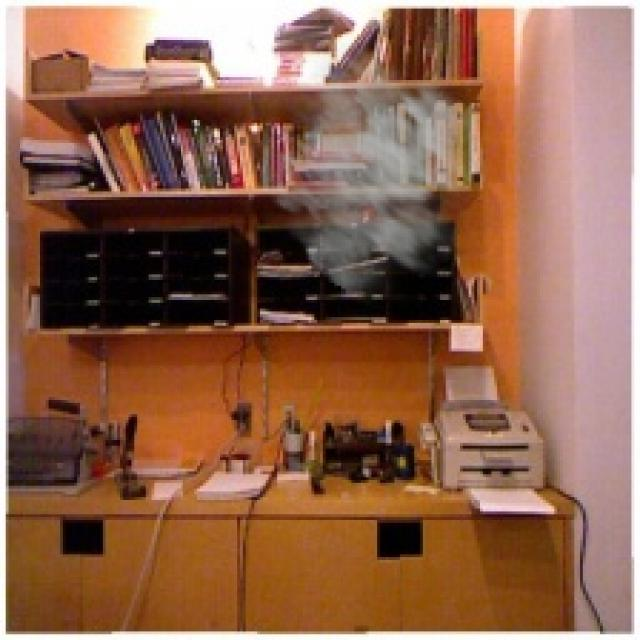smoke: (263, 37, 506, 312)
